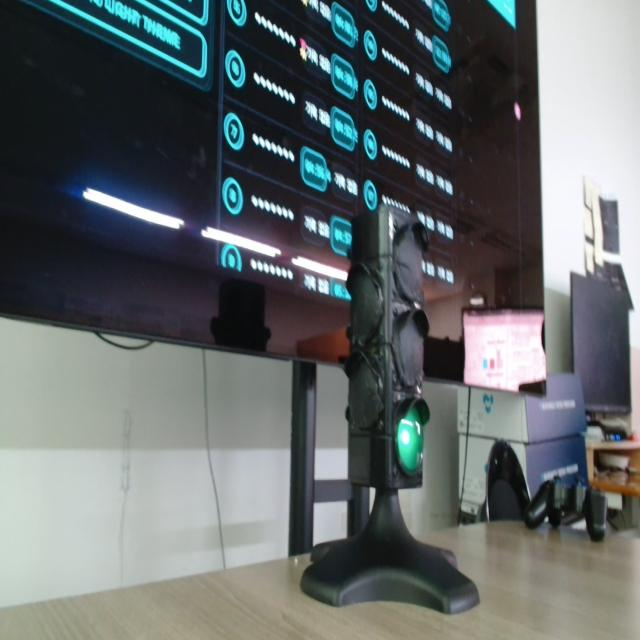green_light: (397, 405, 428, 475)
